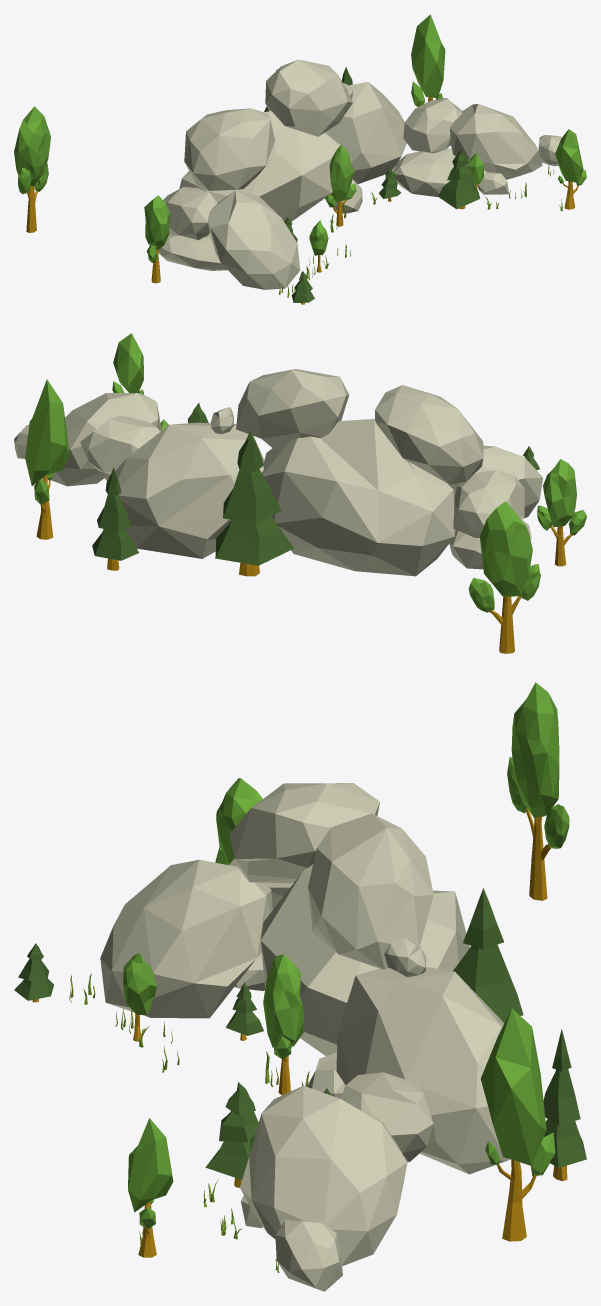
File: forest1.glb
3 renders of one model, top to bottom at view 1: azimuth 30°, elevation 25°; view 2: azimuth 150°, elevation 25°; view 3: azimuth 270°, elevation 25°, orthographic. The views are drawn at different scales.
Bounding box in the file's own units: 1.63 × 0.4819 × 0.9407.
5 materials, 3 textured.
